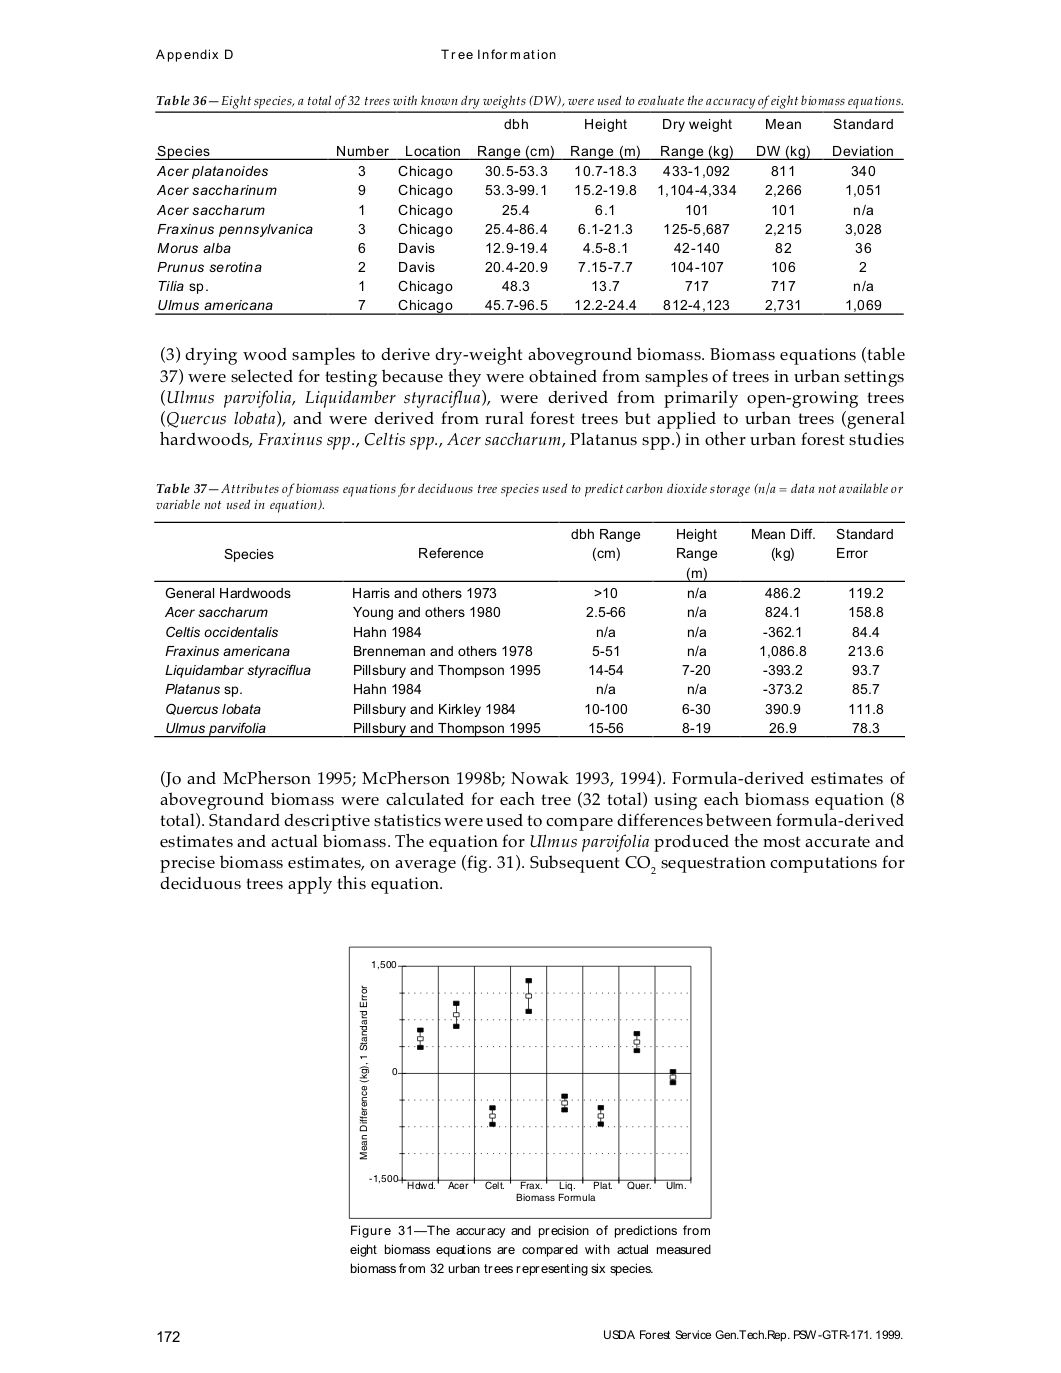Table: (154, 520, 904, 737), (155, 111, 903, 314)
figure: (348, 945, 711, 1219)
